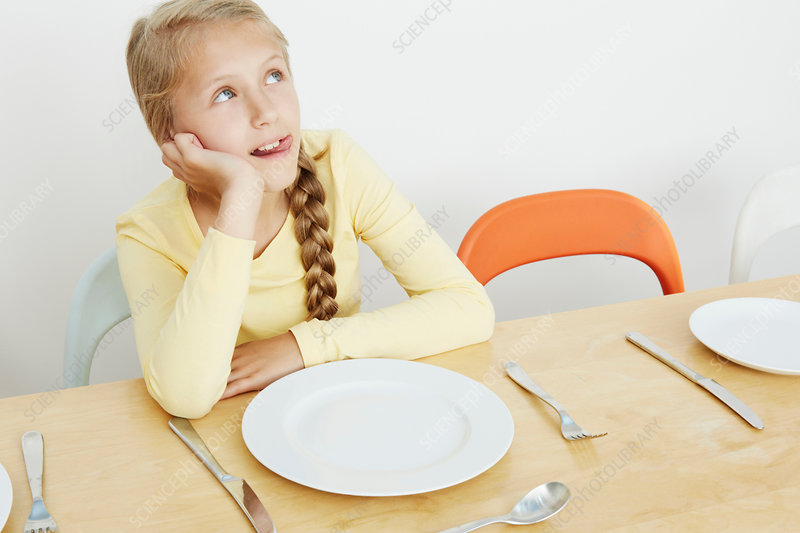plate: (238, 357, 518, 500)
